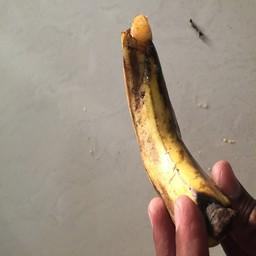Bad_banana: (116, 12, 239, 235)
